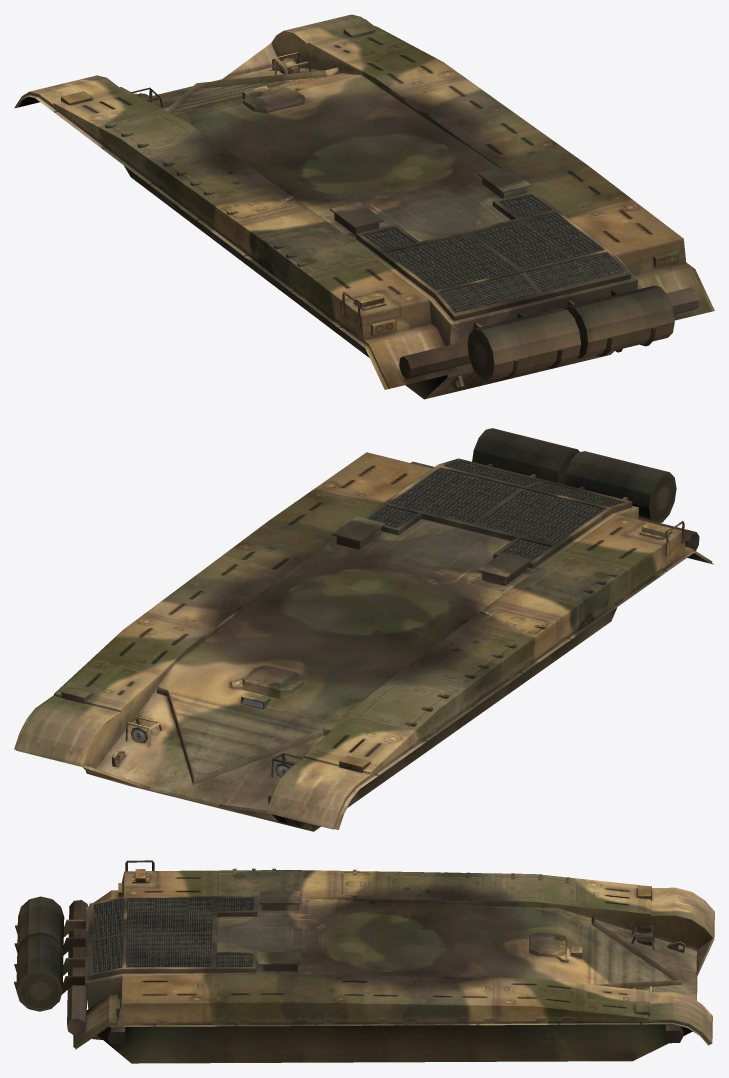
Rendered from Body.fbx.
3 views of the same model, one above another, from view 1: azimuth 30°, elevation 25°; view 2: azimuth 150°, elevation 25°; view 3: azimuth 270°, elevation 25° (orthographic). The views are drawn at different scales.
Parts seen in each view (by area): view 1: Body; view 2: Body; view 3: Body.
Part boxes in pixels (x1,y1,x2,y2): Body: (14,14,714,399); Body: (14,428,713,831); Body: (14,860,714,1063).
Bounding box in the file's own units: 4.41 × 1.47 × 9.51.
